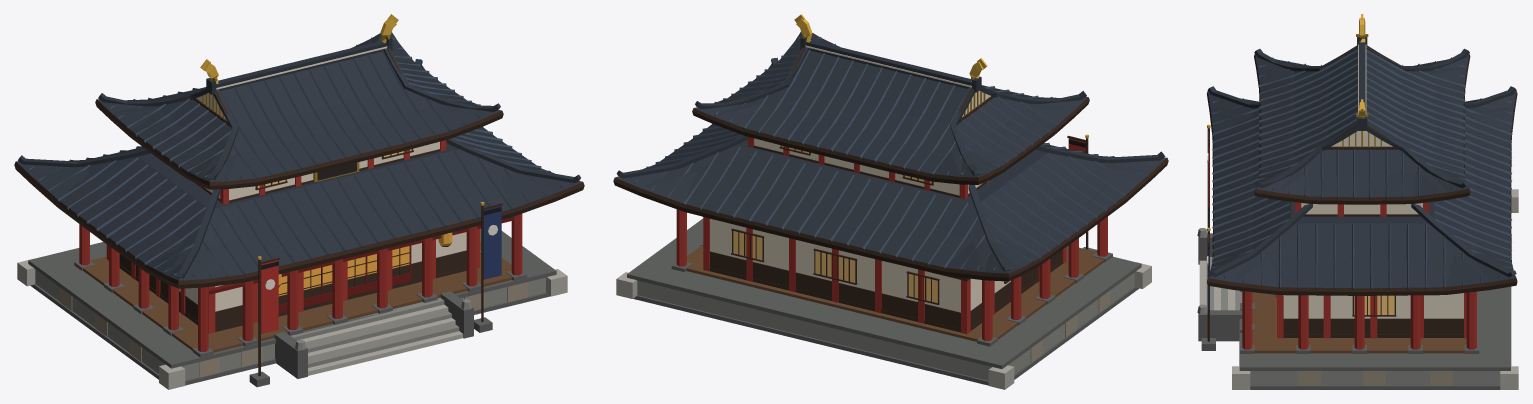
The model's file is dojo_main.fbx.
3 views of the same model, side by side, from view 1: azimuth 30°, elevation 25°; view 2: azimuth 150°, elevation 25°; view 3: azimuth 270°, elevation 25° (orthographic). The views are drawn at different scales.
Visible parts, largest first — view 1: dojo_main; view 2: dojo_main; view 3: dojo_main.
Boxes of the visible parts, <box> form: dojo_main: <box>14,14,584,389</box>; dojo_main: <box>613,14,1168,389</box>; dojo_main: <box>1197,14,1518,389</box>.
Bounding box in the file's own units: 21.9 × 13.25 × 15.81.
